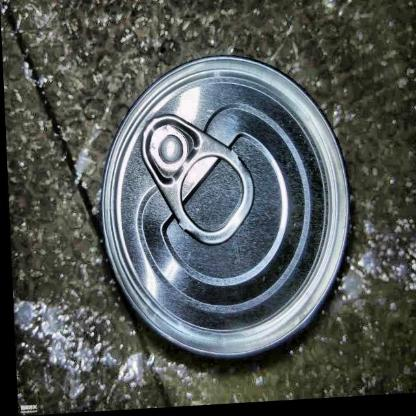Can: (80, 42, 367, 374)
